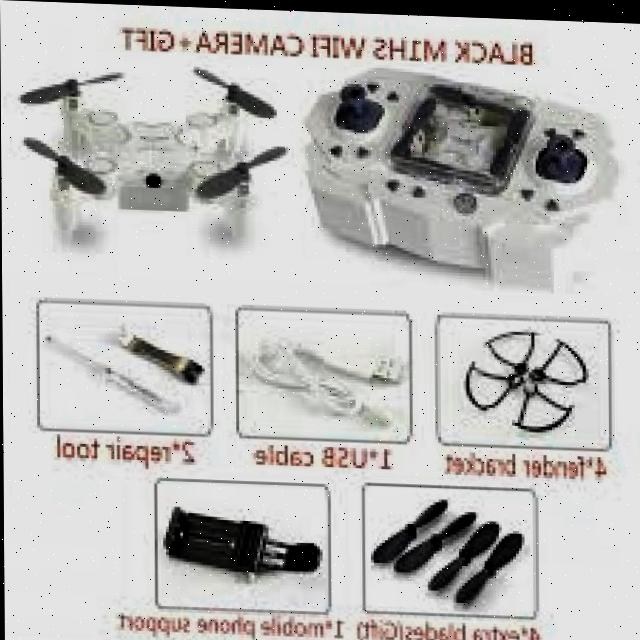drone: (20, 63, 284, 260)
